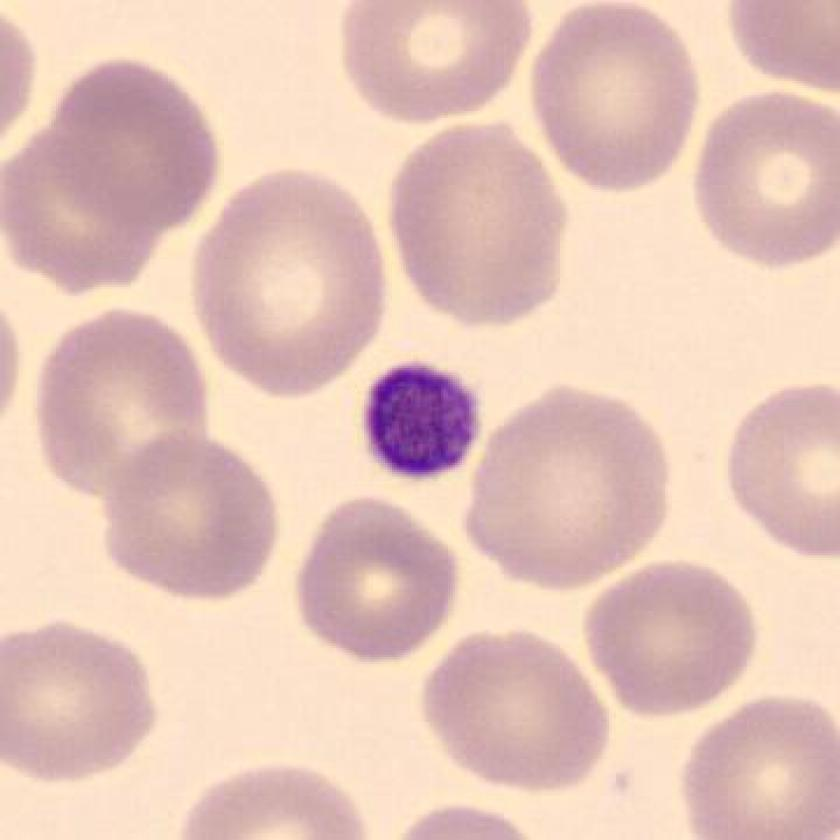platelets: (349, 351, 496, 490)
